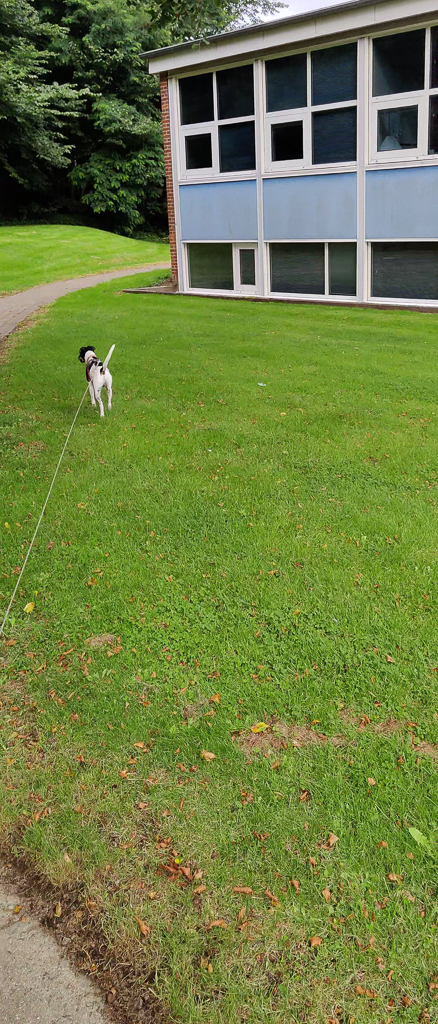Dog: (71, 335, 127, 423)
